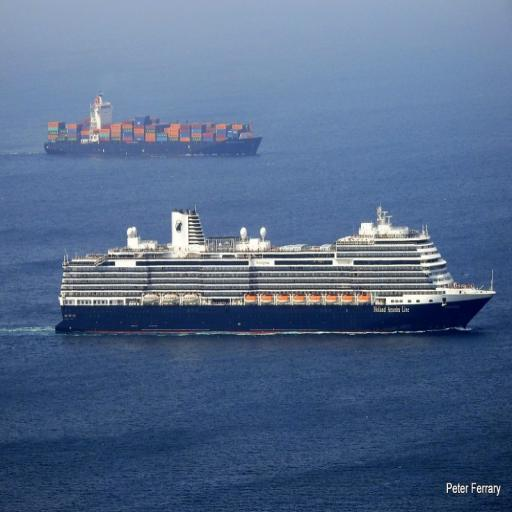cruises: (57, 200, 498, 340)
